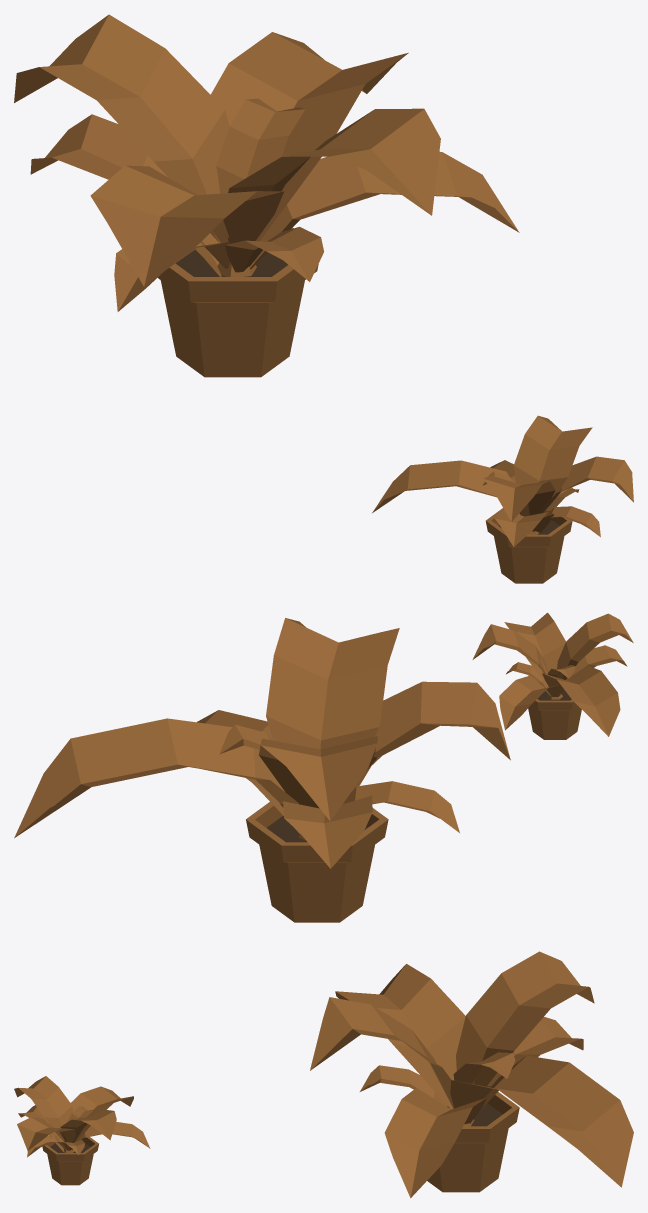
The model's file is pot_fleur.fbx.
The picture shows the model from 3 angles, top to bottom: view 1: azimuth 30°, elevation 25°; view 2: azimuth 150°, elevation 25°; view 3: azimuth 270°, elevation 25°; orthographic projection. The views are drawn at different scales.
Visible parts, largest first — view 1: grand_pot, petit_pot; view 2: grand_pot, petit_pot; view 3: grand_pot, petit_pot.
Boxes of the visible parts, x1=… form: grand_pot: x1=14, y1=14, x2=519, y2=377; petit_pot: x1=372, y1=415, x2=633, y2=583; grand_pot: x1=14, y1=618, x2=510, y2=922; petit_pot: x1=472, y1=612, x2=633, y2=739; grand_pot: x1=310, y1=951, x2=633, y2=1198; petit_pot: x1=14, y1=1076, x2=150, y2=1185.
Bounding box in the file's own units: 4.45 × 2.7 × 8.25.
